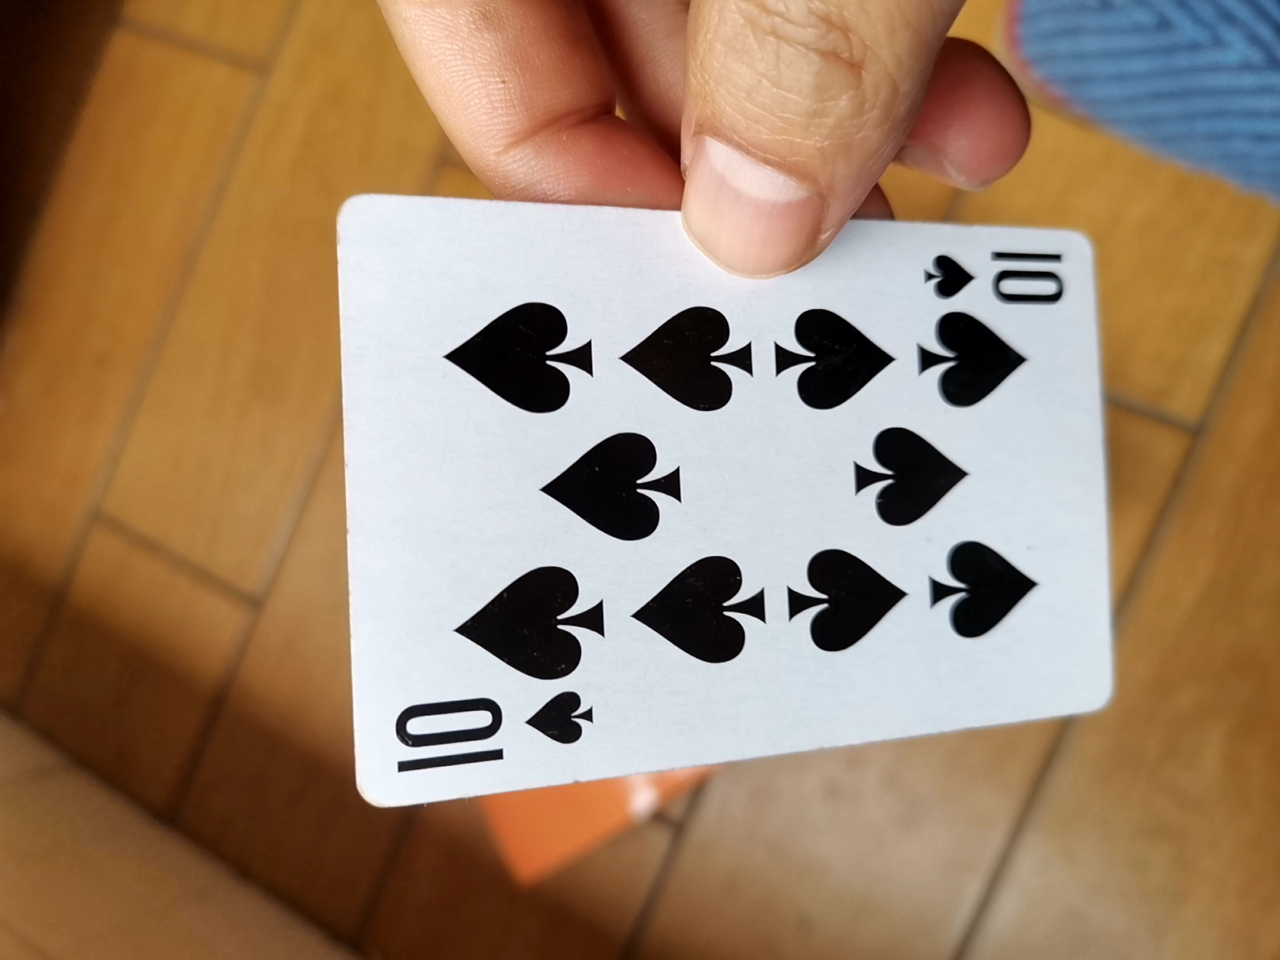ht 10: (314, 194, 1112, 812)
